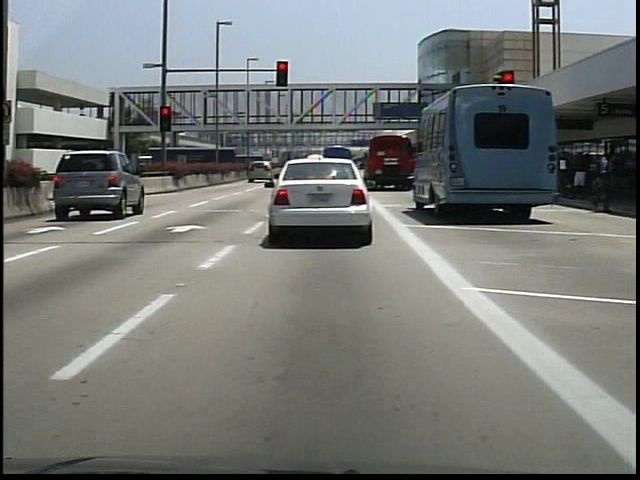person: (585, 147, 617, 213), (569, 150, 590, 202)
